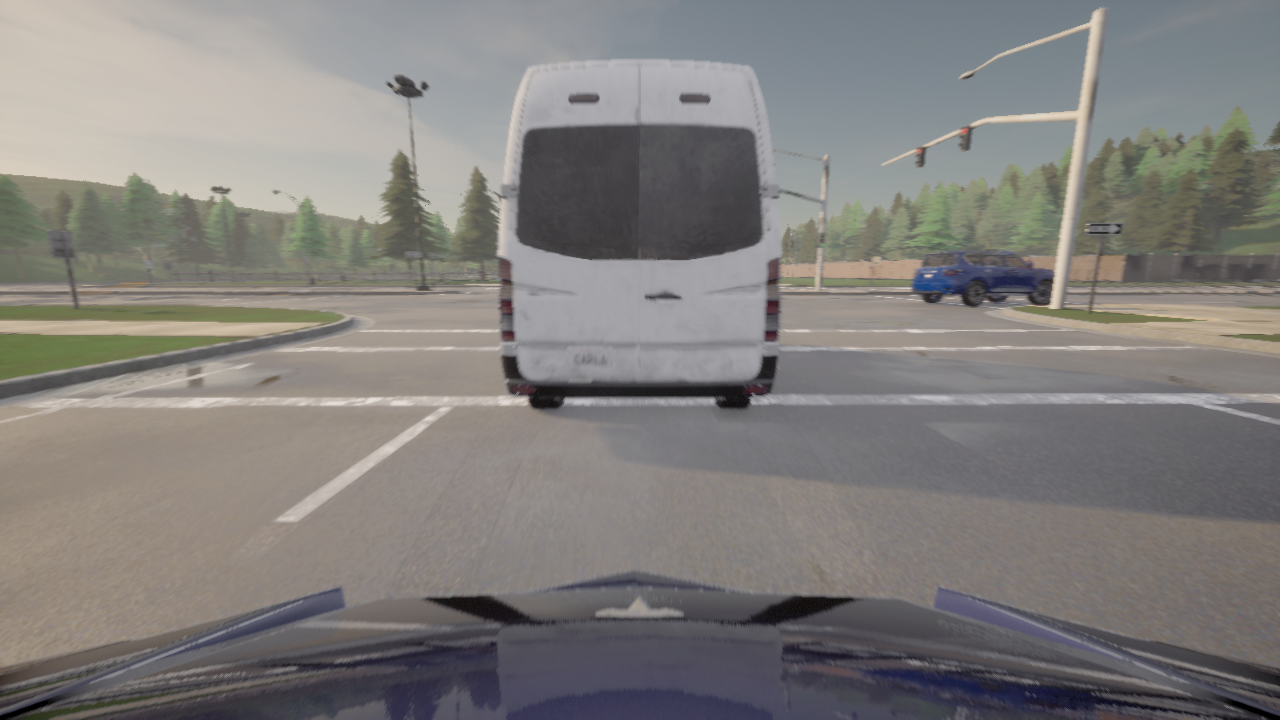cyclist: (0, 569, 1279, 719), (498, 60, 781, 408), (912, 250, 1055, 306)
pedestrian: (1027, 260, 1031, 263)
